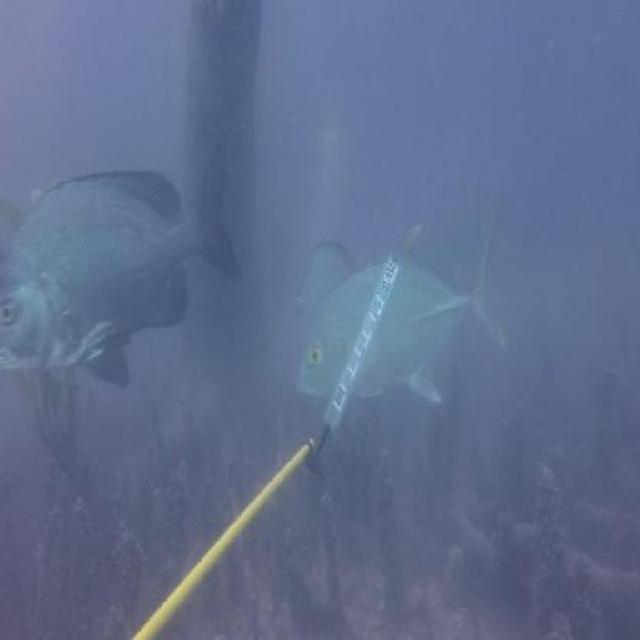Caranx: (295, 206, 507, 406)
acanthopagrus_palmaris: (1, 139, 242, 396), (293, 234, 356, 314)
